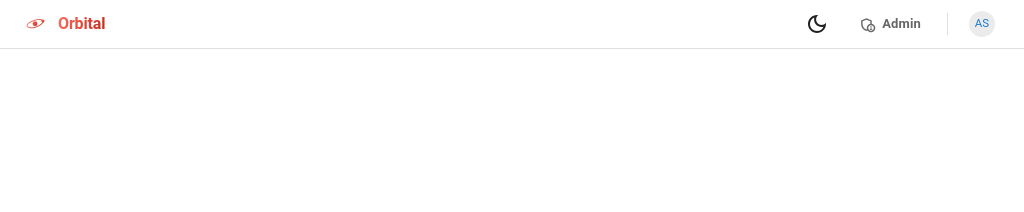
Test: AppShell › shows 'no groups' when the user belongs to none
Click the button with aria-label "account" at (982,24), box [964,6,1000,42]
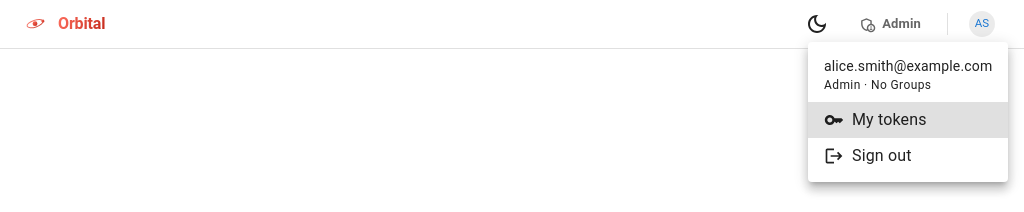
Now the text "admin · no groups" is shown, box [824,78,932,92]
